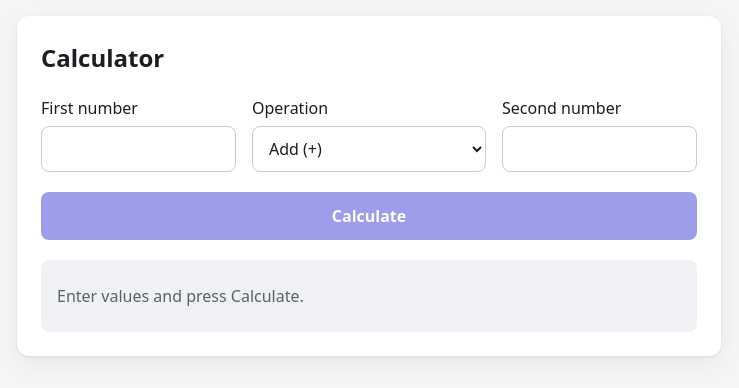
it: Calculator › shows a friendly message when the backend is down
Type "1" into the field labelled "First number".
click(138, 149); type("1")  # box [41,126,236,172]
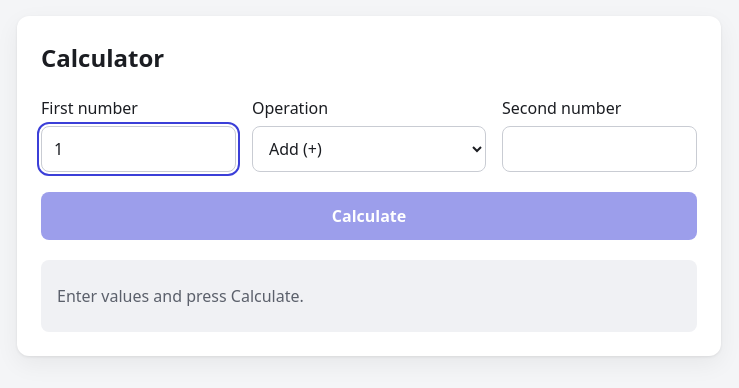
Type "2" into the field labelled "Second number".
click(600, 149); type("2")  # box [502,126,697,172]
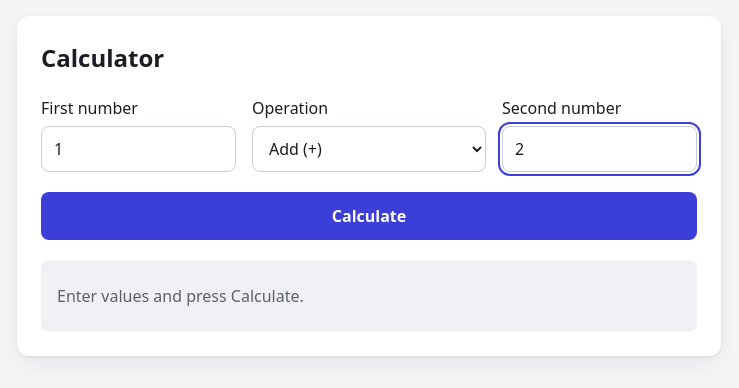
Click the button "Calculate".
click(369, 216)  # box [41,192,697,240]
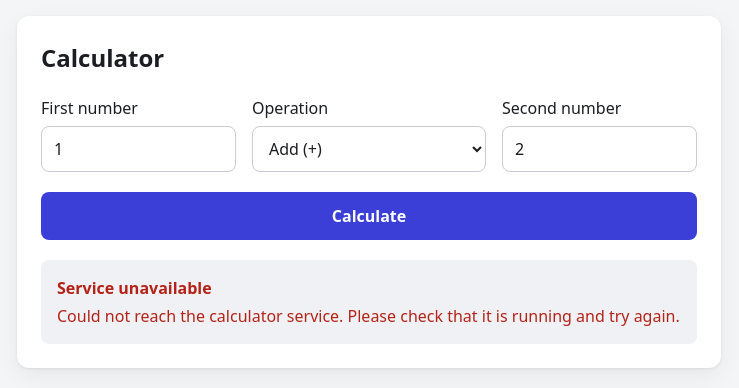
expect the message shows "Could not reach the calculator service": met, box [57,305,680,327]
